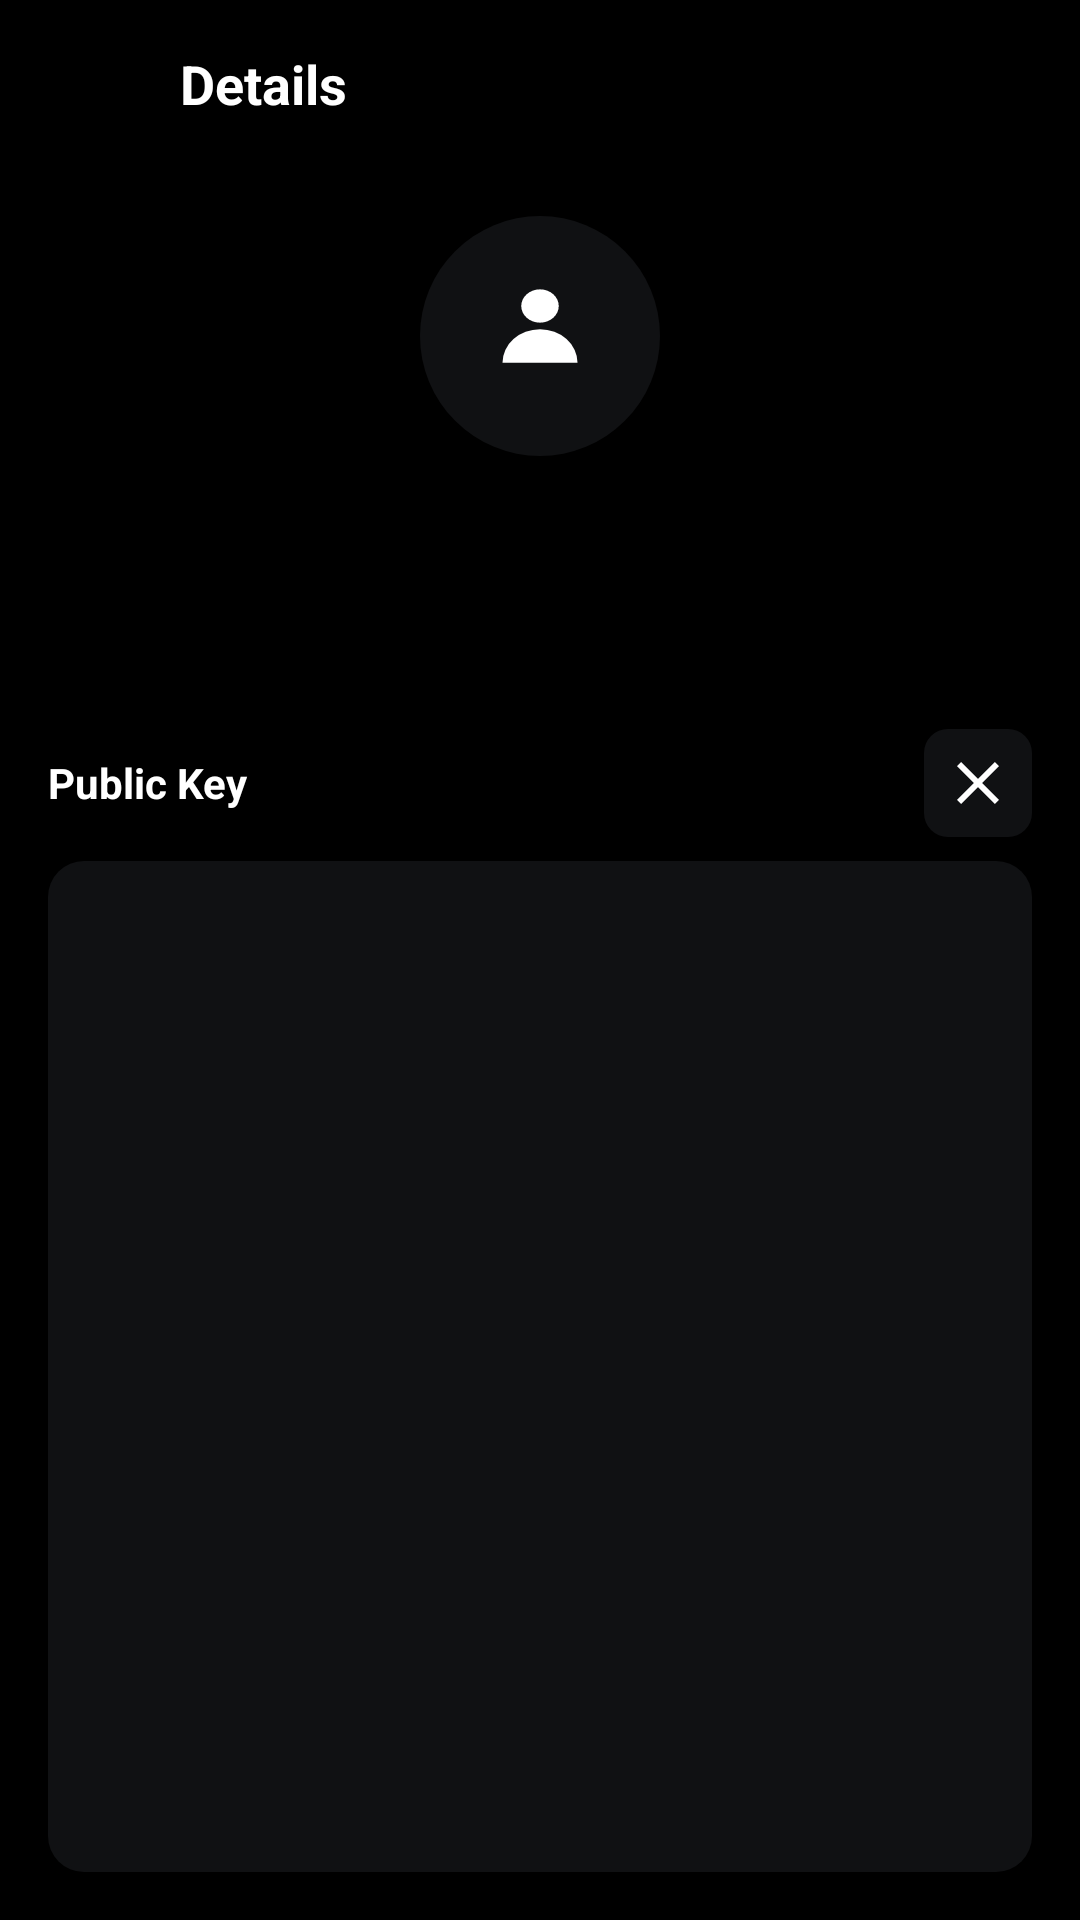

Where icons sit on this 1080px×1920px app screen, as (x1, y1, x2, y2):
Clear key: (924, 729, 1032, 837)
Contact avatar: (502, 289, 578, 363)
